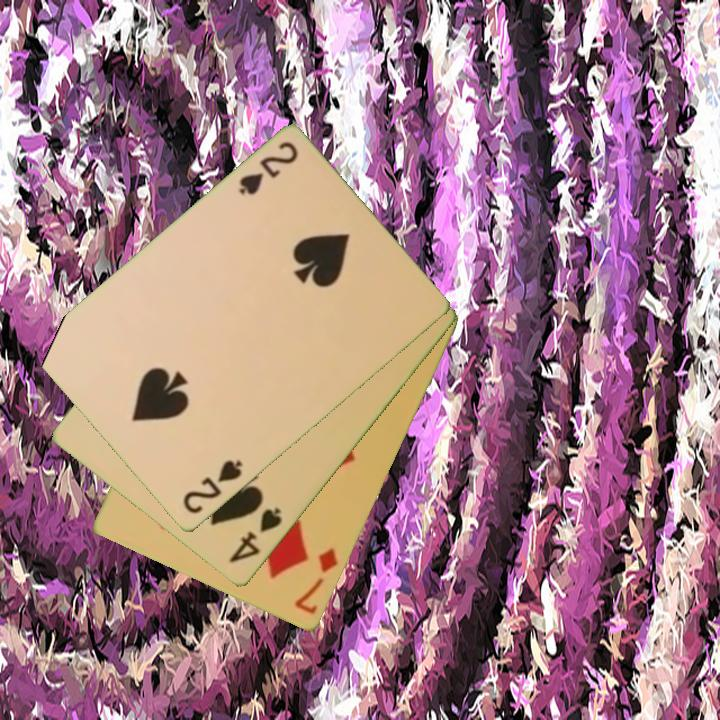2s: (179, 456, 246, 518), (235, 138, 301, 199)
4s: (225, 504, 286, 567)
7d: (291, 545, 341, 618)
